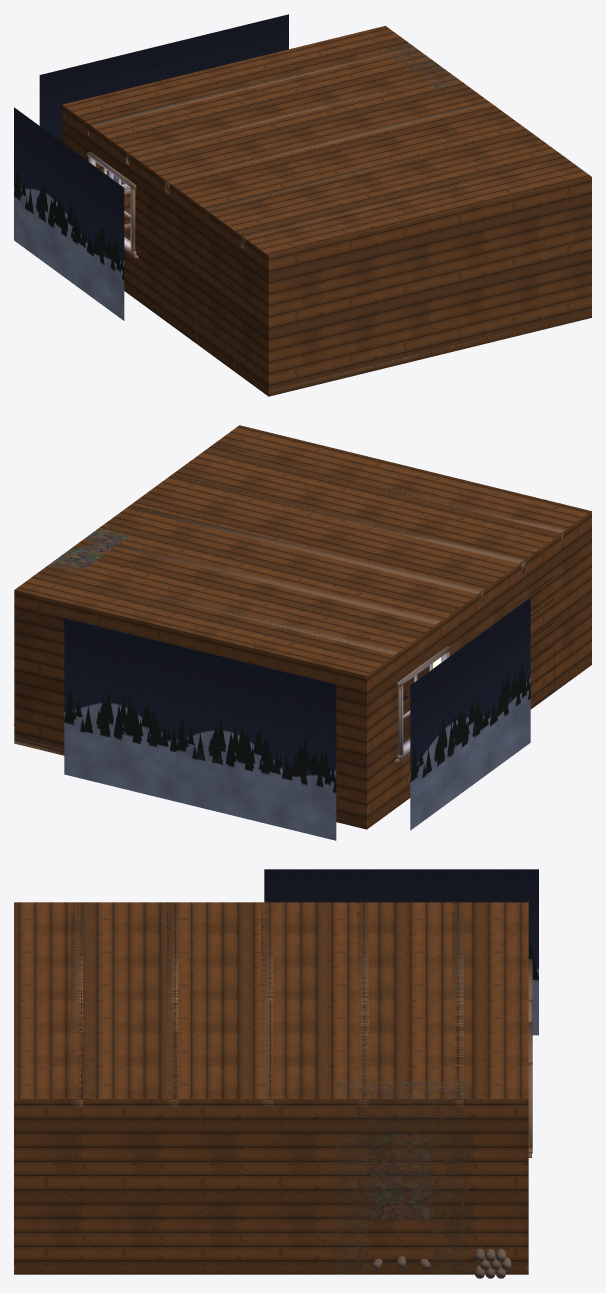
File: cabin_living.glb
The picture shows the model from 3 angles, top to bottom: view 1: azimuth 30°, elevation 25°; view 2: azimuth 150°, elevation 25°; view 3: azimuth 270°, elevation 25°; orthographic projection. The views are drawn at different scales.
Parts seen in each view (by area): view 1: ceiling, wall_front, wall_left, win_l_view, win_b0_view, win_b1_view, beam_4, beam_2, beam_3, beam_1, skirt_front, beam_0; view 2: ceiling, win_b0_view, wall_left, win_b1_view, win_l_view, wall_back, beam_2, beam_3, beam_1, beam_4, beam_0, hearth_breast_top; view 3: ceiling, wall_right, win_l_view, hearth_breast_top, hearth_breast_l, hearth_breast_r, beam_2, beam_1, beam_3, beam_0, beam_4.
Boxes of the visible parts, x1,y1,x2,y2 form: ceiling: (63,26,591,255); wall_front: (268,177,591,396); wall_left: (62,105,268,396); win_l_view: (14,107,124,320); win_b0_view: (39,39,185,184); win_b1_view: (142,14,288,81); beam_4: (88,45,415,135); beam_2: (164,101,490,193); beam_3: (126,73,452,165); beam_1: (203,131,514,219); skirt_front: (269,329,520,395); beam_0: (241,160,566,249); ceiling: (15,425,591,675); win_b0_view: (176,645,336,840); wall_left: (367,511,591,828); win_b1_view: (64,618,223,812); win_l_view: (410,597,530,830); wall_back: (14,590,366,829); beam_2: (127,505,483,604); beam_3: (86,539,440,624); beam_1: (169,474,525,574); beam_4: (112,585,399,658); beam_0: (213,443,565,545); hearth_breast_top: (56,542,114,566); ceiling: (14,902,528,1098); wall_right: (14,1099,528,1274); win_l_view: (264,869,538,1035); hearth_breast_top: (370,1081,433,1219); hearth_breast_l: (334,1081,369,1274); hearth_breast_r: (433,1081,468,1274); beam_2: (261,903,273,1113); beam_1: (166,903,178,1112); beam_3: (357,903,368,1113); beam_0: (71,902,83,1112); beam_4: (452,902,463,1113).
Bounding box in the file's own units: 7.66 × 2.95 × 8.2.
Materials: 27 (13 with a texture image).
